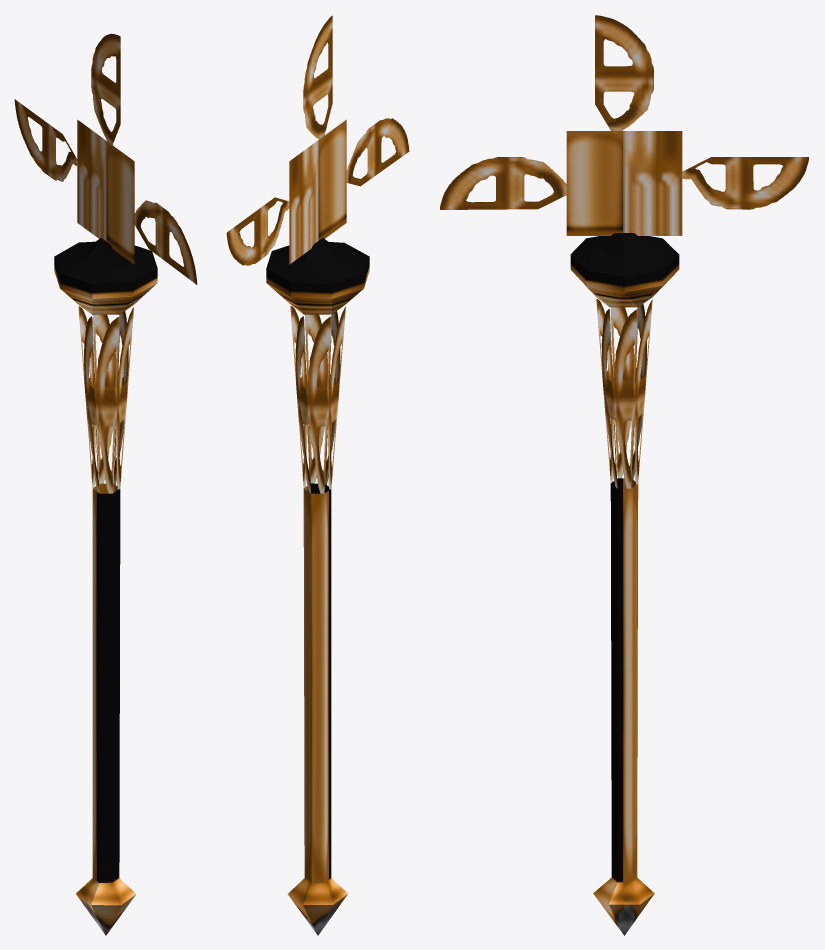
Rendered from wavemaster04.obj.
3 renders of one model, left to right at view 1: azimuth 30°, elevation 25°; view 2: azimuth 150°, elevation 25°; view 3: azimuth 270°, elevation 25°, orthographic.
Visible parts, largest first — view 1: wavemaster04; view 2: wavemaster04; view 3: wavemaster04.
Boxes of the visible parts, x1,y1,x2,y2 form: wavemaster04: [14, 33, 197, 935]; wavemaster04: [226, 15, 409, 935]; wavemaster04: [440, 15, 808, 935].
Size of the model in its own units: 0.1375 by 1.3 by 0.475.
